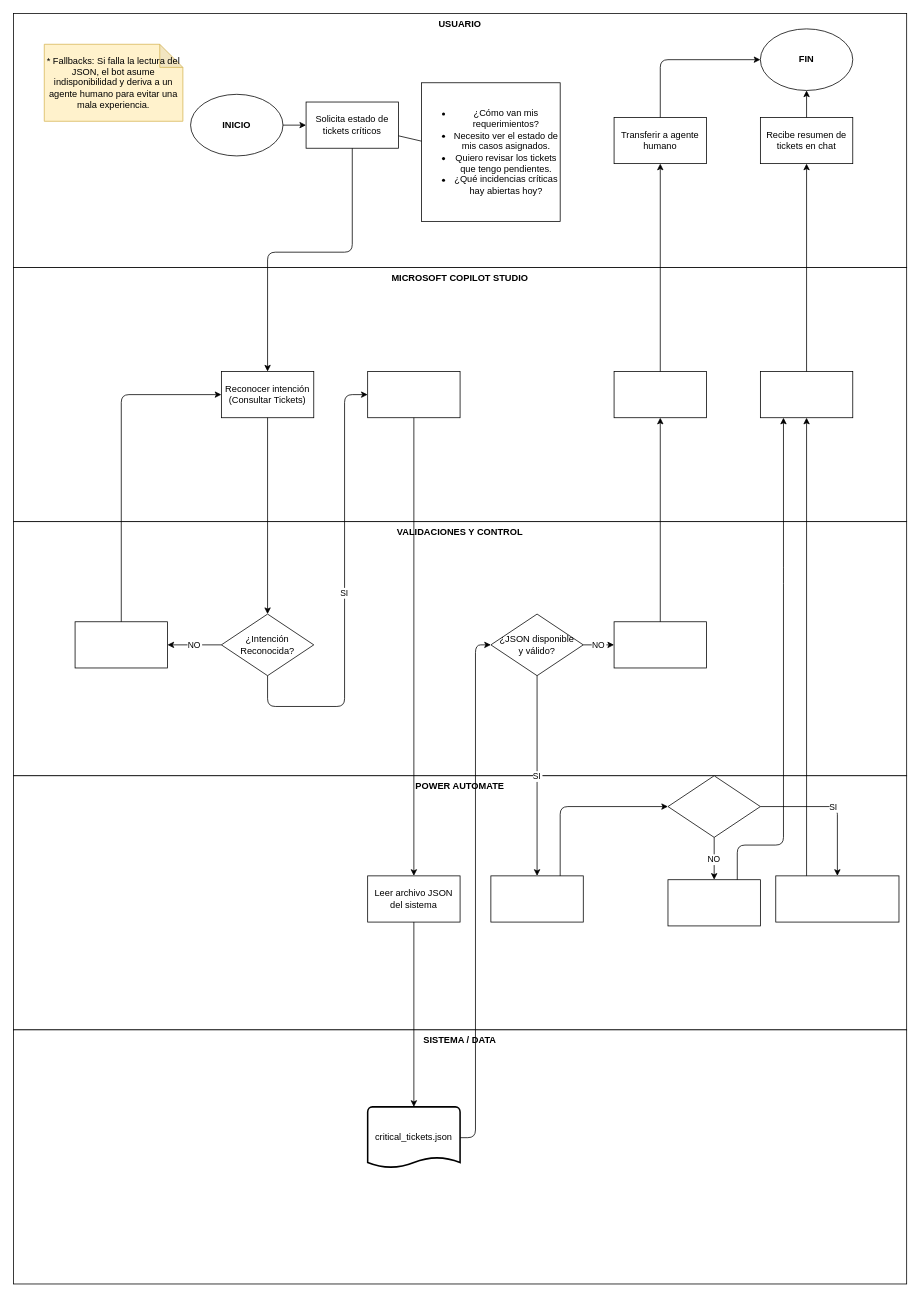
Some shapes in this 920 by 1297 pixel diagram are drawn without their labels. Here are the shapes that lost their labels. From the top down, the centre of each, then its label:
(x=413, y=394): Llamar Flujo de Power Automate
(x=659, y=394): Notificar problema técnico
(x=806, y=394): Entregar respuesta dinámica al usuario
(x=120, y=644): Fallback: Solicitar reformular pregunta
(x=659, y=644): Error de lectura o archivo faltante
(x=713, y=806): ¿Tickets > 0?
(x=536, y=898): Procesar total_critical_tickets
(x=713, y=902): Construir payload: "No tienes tickets"
(x=837, y=898): Generar respuesta dinámica '"Actualmente tienes X tickets críticos pendientes"'
